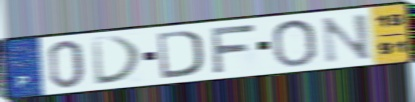0: (45, 38, 88, 90)
D: (89, 34, 146, 87), (155, 28, 206, 80)
F: (208, 22, 258, 75)
N: (320, 12, 374, 66)
O: (270, 17, 320, 68)
